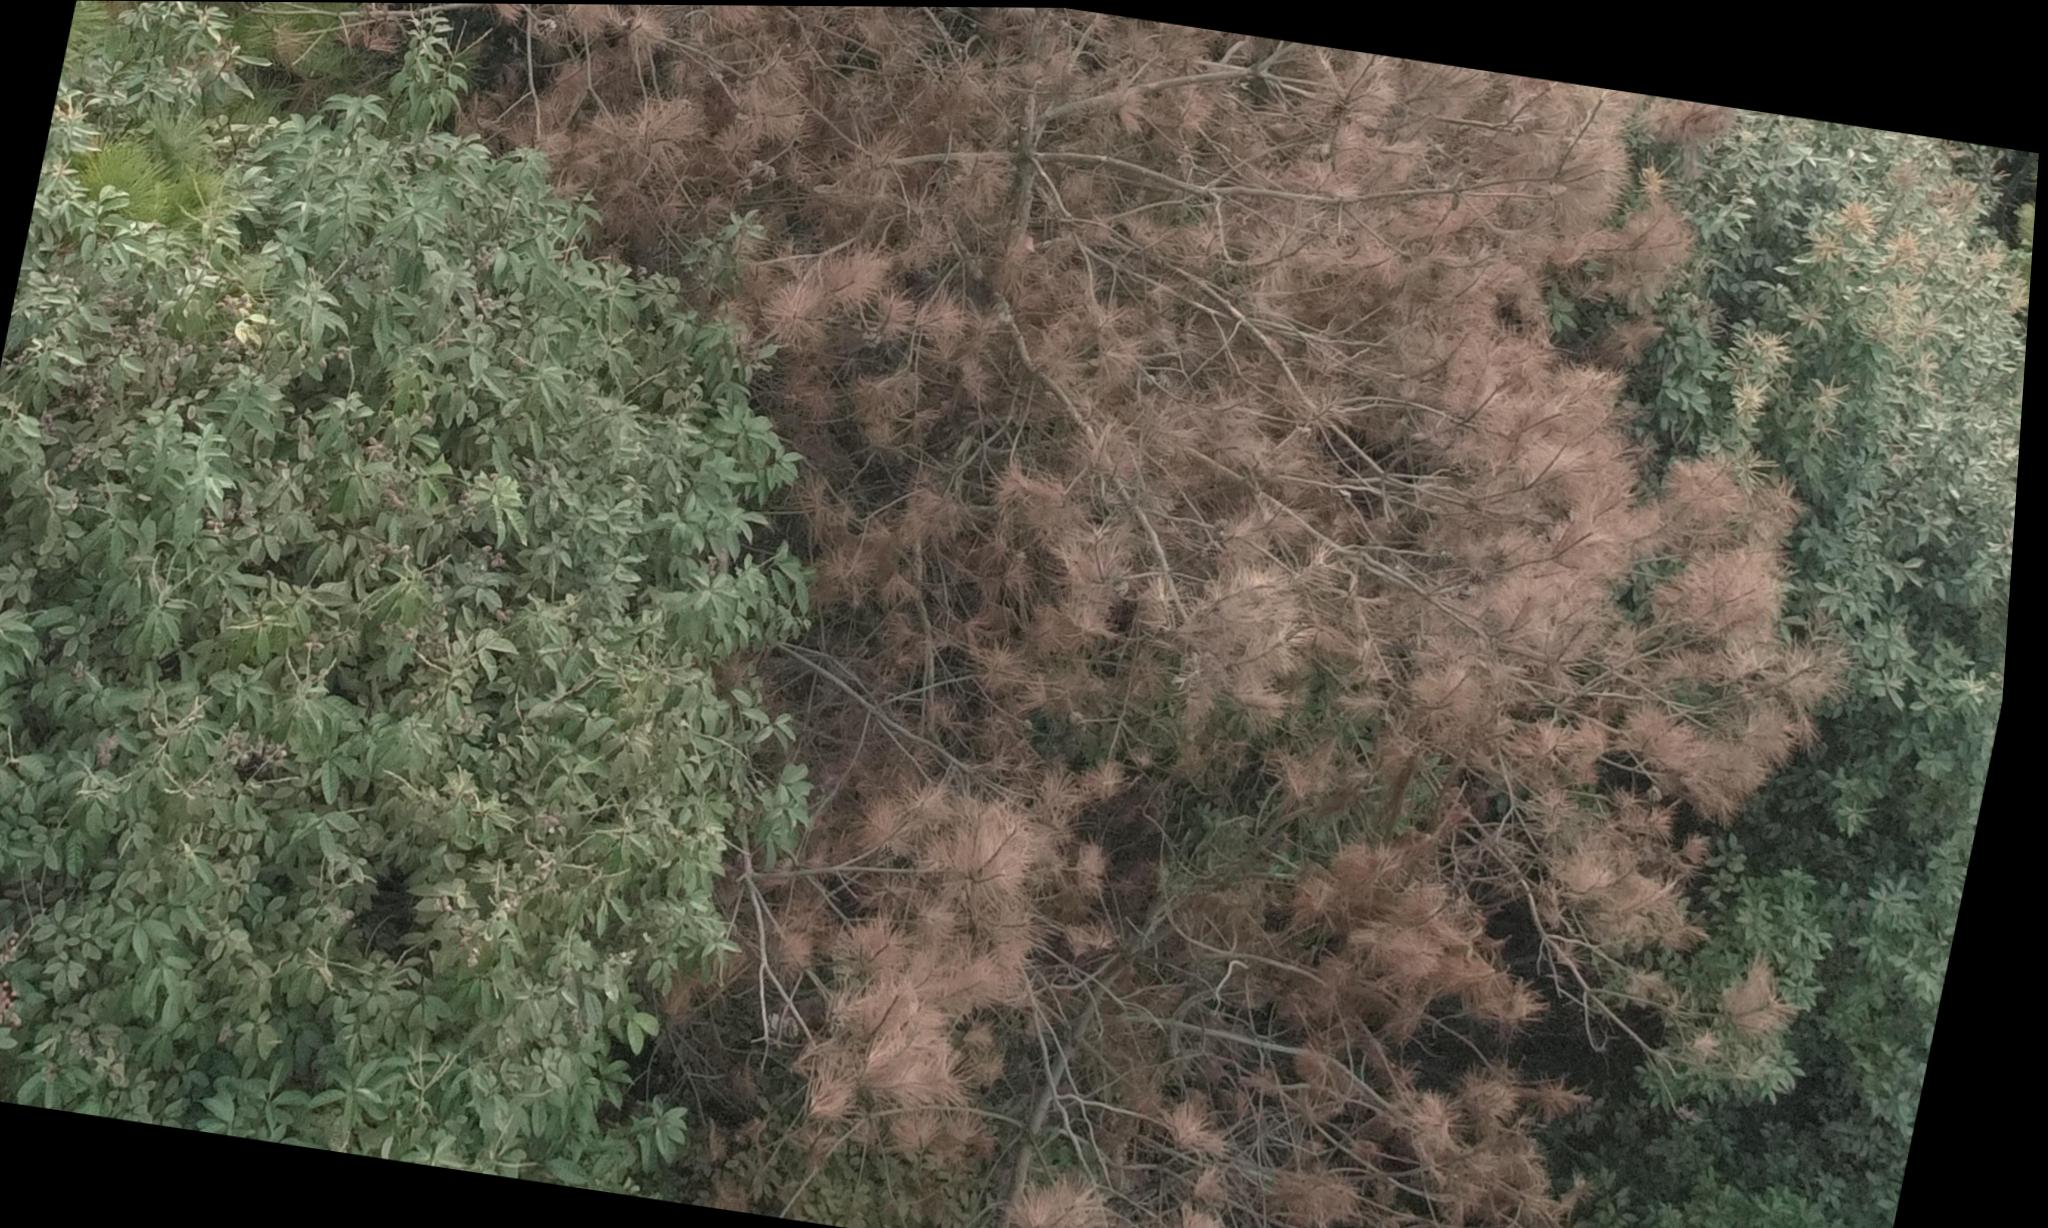heavy: (168, 1, 1946, 1228)
